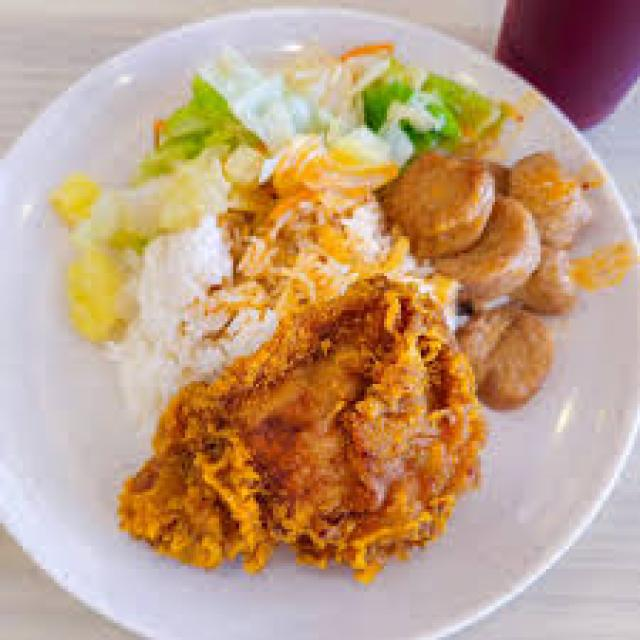Chicken: (119, 273, 484, 577)
Green veg: (51, 43, 515, 338)
Rice: (111, 182, 455, 435)
Tofu: (378, 151, 586, 407)
